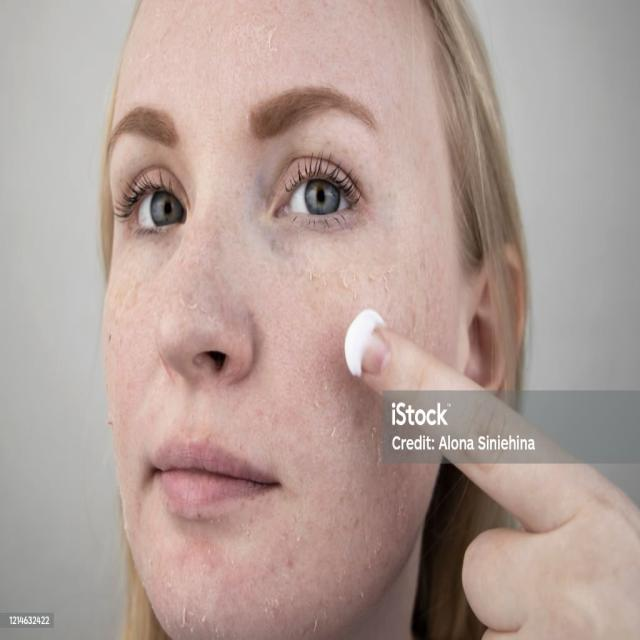Dry-Skin: (132, 502, 372, 640), (296, 360, 433, 528), (198, 3, 396, 90), (312, 247, 466, 337), (99, 250, 242, 336)
